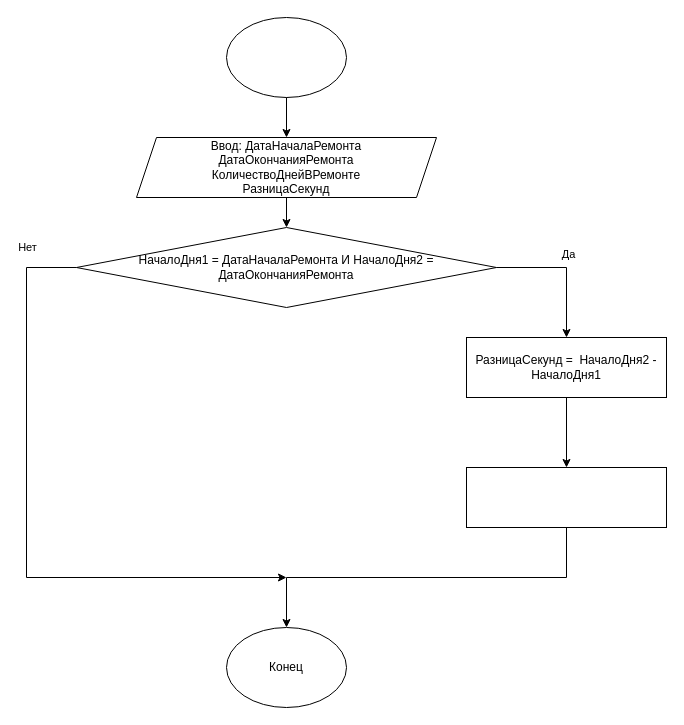
The diagram is 684 pixels wide and 725 high, and some of its shapes have lost their labels. Here are the shapes that lost their labels. From the top down, the centre of each, then its label:
the point at 286,57: Начало
the point at 566,497: КоличествоДнейВРемонте = РазницаСекунд / (24 * 3600)
